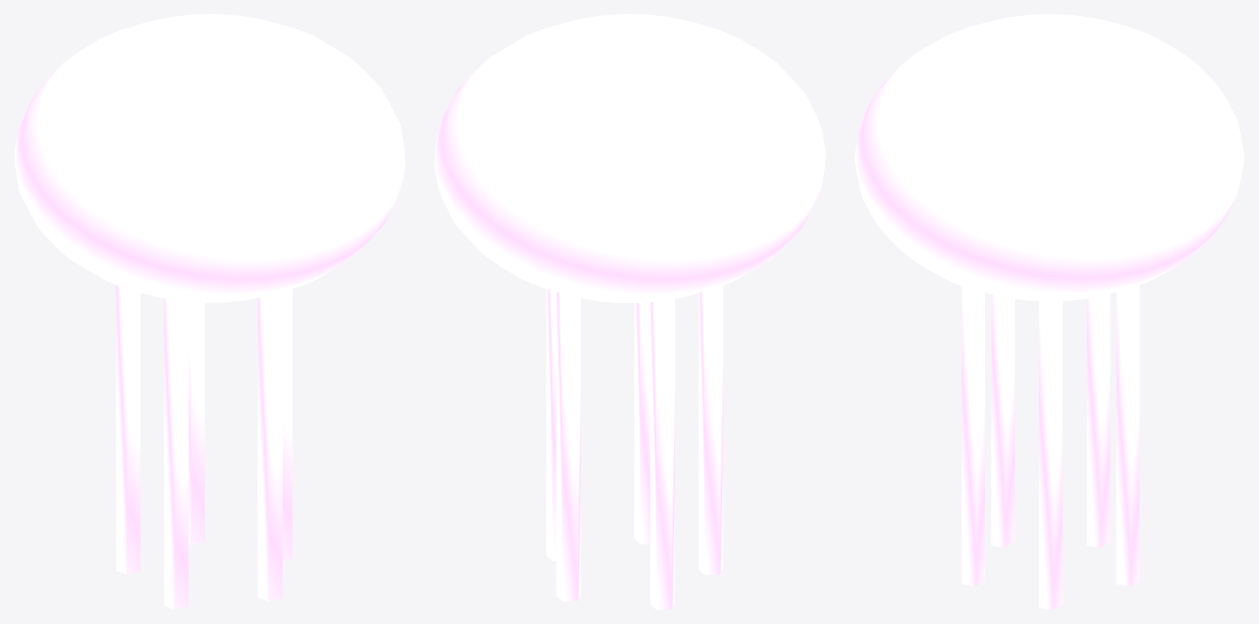
The model's file is jelly.glb.
3 views of the same model, side by side, from view 1: azimuth 30°, elevation 25°; view 2: azimuth 150°, elevation 25°; view 3: azimuth 270°, elevation 25° (orthographic).
Parts seen in each view (by area): view 1: jelly; view 2: jelly; view 3: jelly.
Part boxes in pixels (<box>): jelly: <box>14,14,405,609</box>; jelly: <box>434,14,825,609</box>; jelly: <box>854,14,1244,609</box>.
Size of the model in its own units: 1.2 by 1.8 by 1.2.
